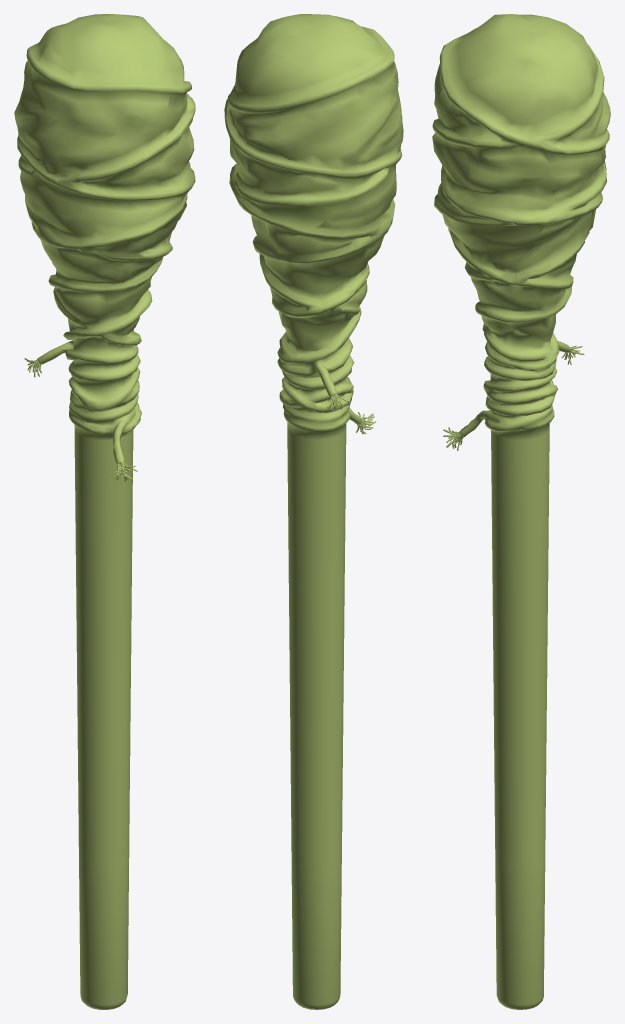
Rendered from Torch_Mesh.FBX.
3 renders of one model, left to right at view 1: azimuth 30°, elevation 25°; view 2: azimuth 150°, elevation 25°; view 3: azimuth 270°, elevation 25°, orthographic.
Visible parts, largest first — view 1: Torch_Mesh; view 2: Torch_Mesh; view 3: Torch_Mesh.
Boxes of the visible parts, x1=… form: Torch_Mesh: x1=14, y1=14, x2=195, y2=1009; Torch_Mesh: x1=224, y1=14, x2=403, y2=1009; Torch_Mesh: x1=432, y1=14, x2=610, y2=1009.
Size of the model in its own units: 10.38 by 10.44 by 63.31.
